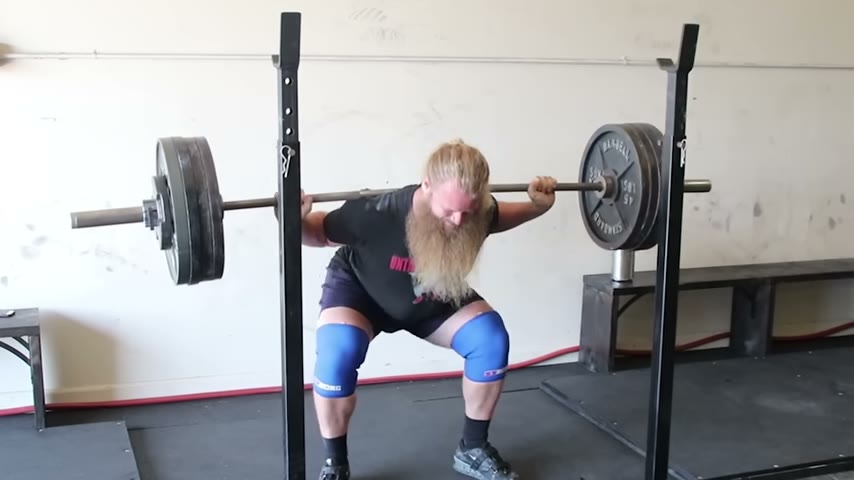barbell_plate_side: (575, 121, 688, 257), (201, 132, 288, 287)
